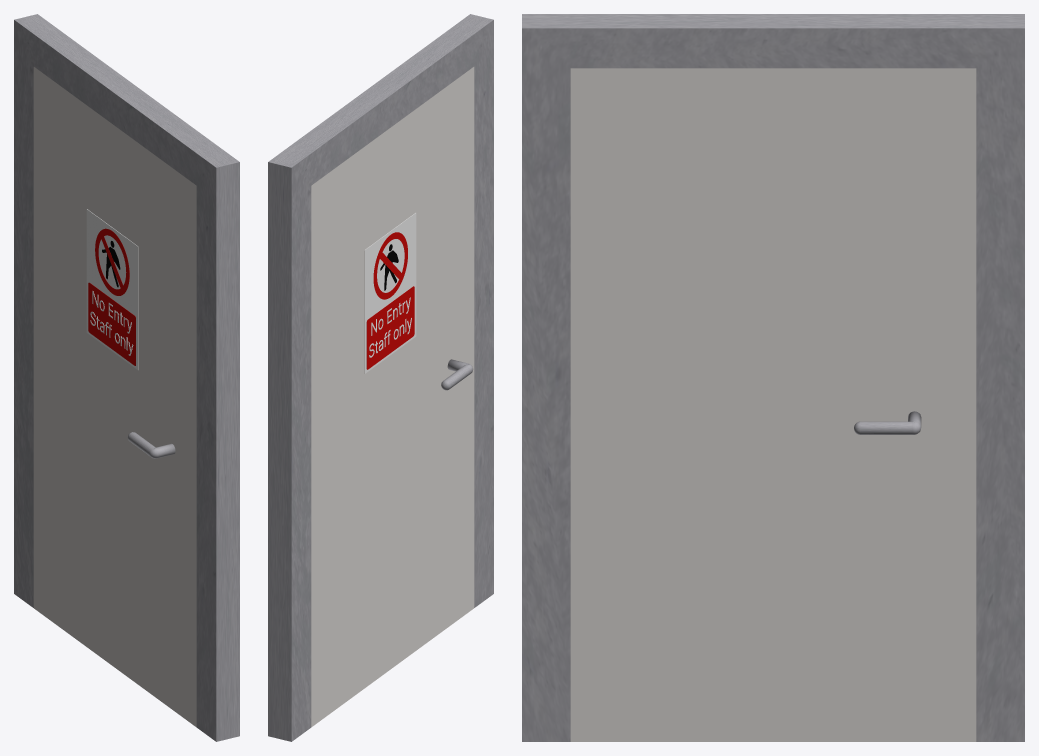
File: door_weapons_room.fbx
3 views of the same model, side by side, from view 1: azimuth 30°, elevation 25°; view 2: azimuth 150°, elevation 25°; view 3: azimuth 270°, elevation 25° (orthographic). The views are drawn at different scales.
Parts seen in each view (by area): view 1: gun wall.001, door.001; view 2: gun wall.001, door.001; view 3: gun wall.001, door.001.
Boxes of the visible parts, bbox=[...] form: gun wall.001: bbox=[33, 67, 196, 727]; door.001: bbox=[14, 14, 239, 741]; gun wall.001: bbox=[311, 67, 474, 727]; door.001: bbox=[268, 14, 493, 741]; gun wall.001: bbox=[570, 68, 976, 741]; door.001: bbox=[522, 14, 1024, 741].
Bounding box in the file's own units: 29.25 × 233 × 149.
Materials: 5 (2 with a texture image).
